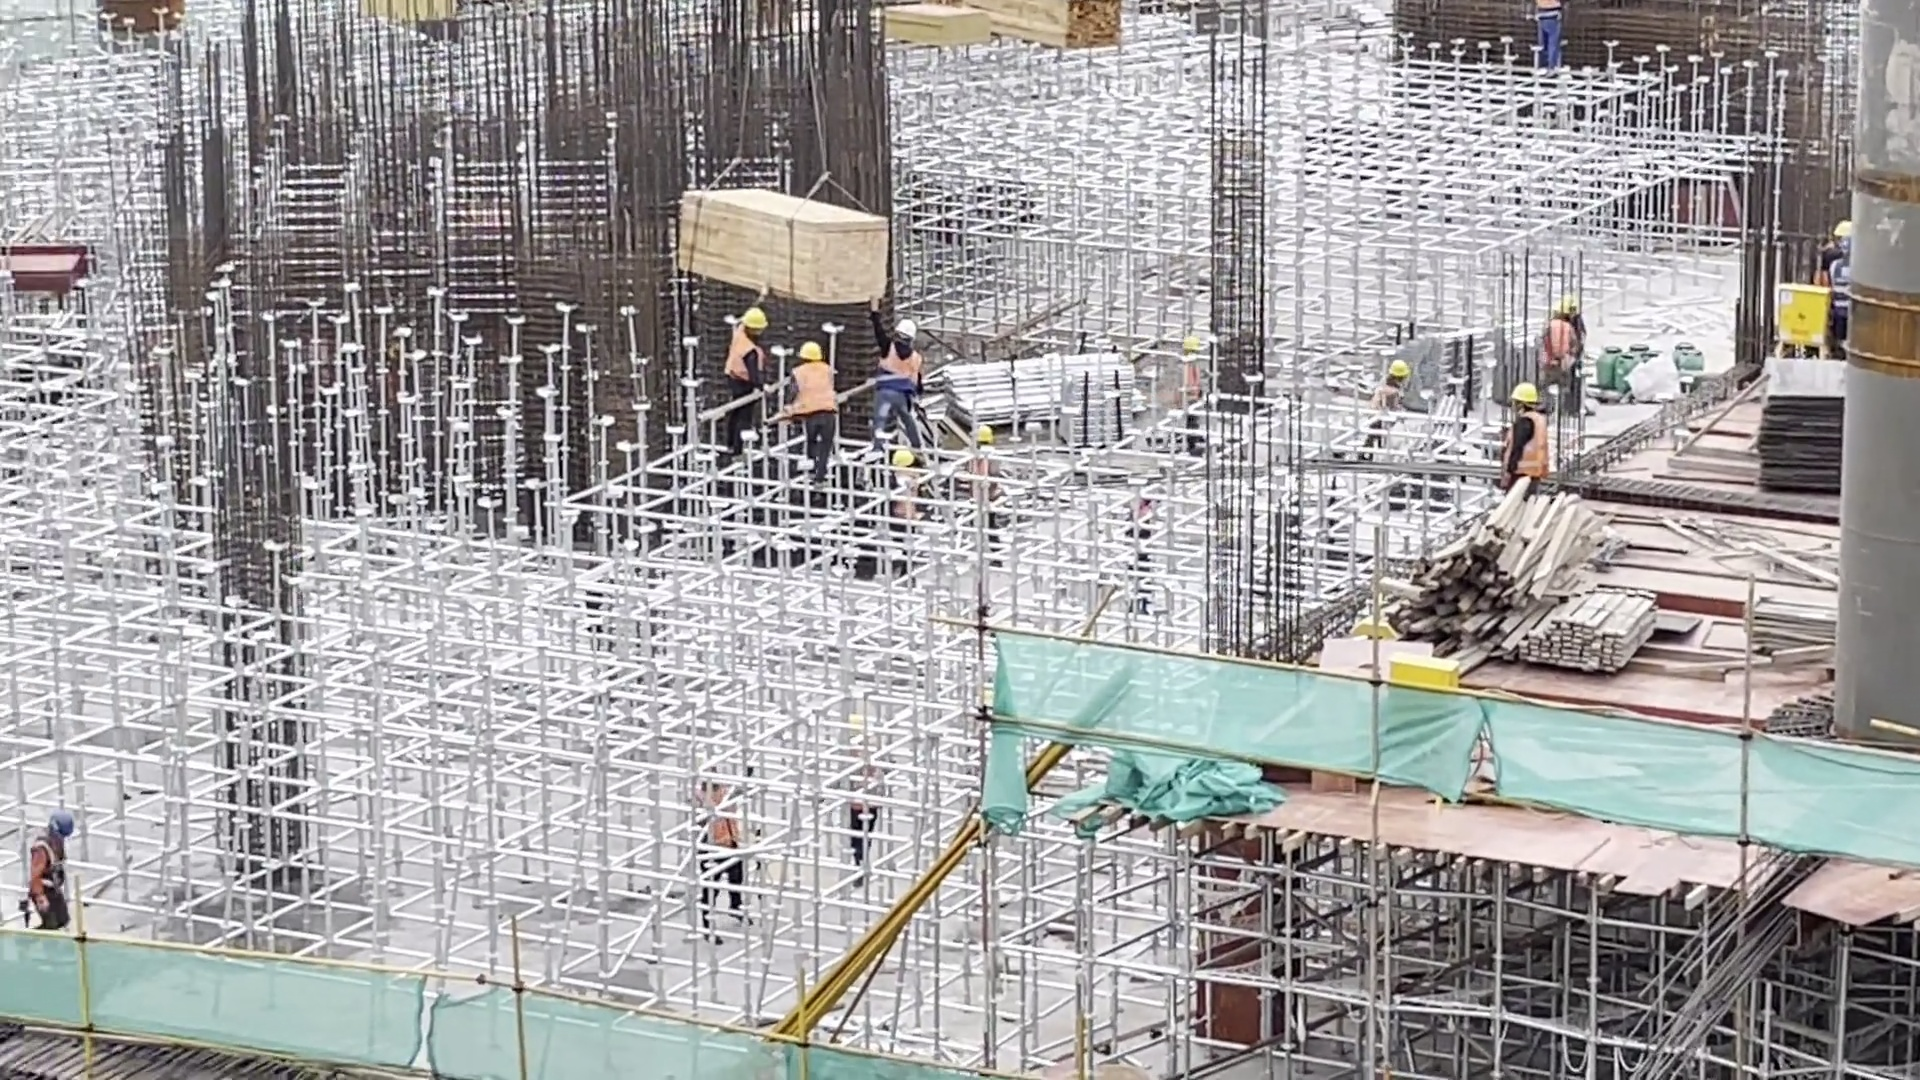board: (677, 185, 893, 306)
ebox: (1779, 277, 1826, 358)
helmet: (50, 808, 76, 840), (742, 307, 768, 333), (1512, 380, 1539, 405), (798, 339, 825, 362), (896, 313, 919, 338), (1389, 357, 1414, 378)
person: (691, 772, 753, 948), (858, 283, 918, 448), (778, 337, 844, 483), (718, 297, 769, 457), (26, 801, 78, 934), (1506, 376, 1557, 496), (1357, 363, 1417, 459), (853, 763, 886, 872), (1182, 334, 1209, 456), (1535, 299, 1577, 374), (1530, 1, 1568, 66), (1829, 246, 1851, 345), (1820, 217, 1846, 281)
vest: (1510, 408, 1552, 478), (789, 363, 843, 417), (879, 340, 919, 400), (728, 324, 762, 383)
wood: (1408, 486, 1613, 668), (1529, 588, 1660, 668)
